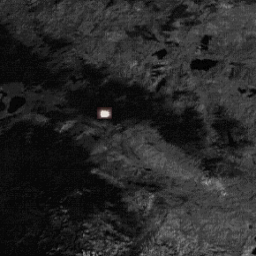Target: (100, 109, 109, 117)
